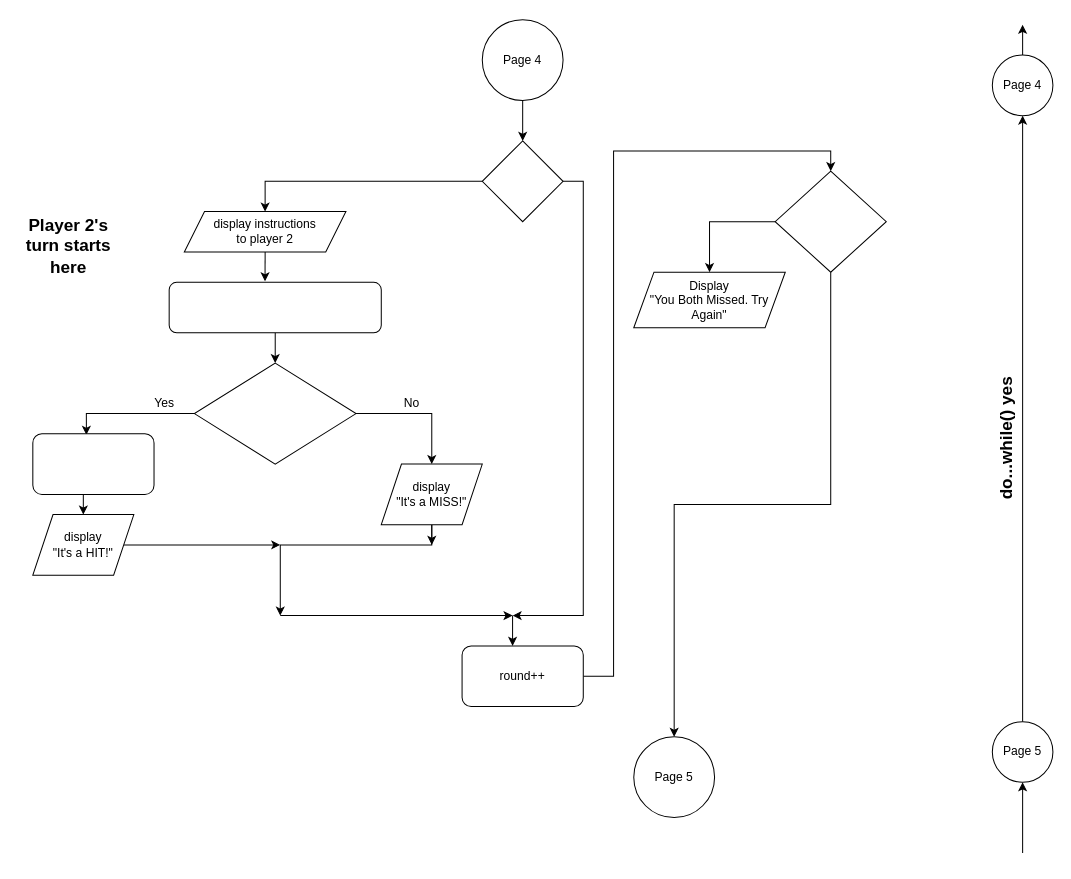
The diagram is 1071 pixels wide and 879 high, and some of its shapes have lost their labels. The shapes that lost their labels are listed below. From the top down, each one's box as (x1, y1, x2, y2) in pixels, then its label:
(481, 140, 563, 222): if !p1_crrt
(774, 170, 886, 272): if !p1_crrt && !p2_crrt
(168, 281, 381, 333): // generate random guess player 2 p2Guess = rand()%(MAX-MIN)+MIN;
(193, 362, 356, 464): if p2Guess == p1Ship1
(32, 433, 154, 494): p2Win++ nGmsLft-- p2_crrt = true
